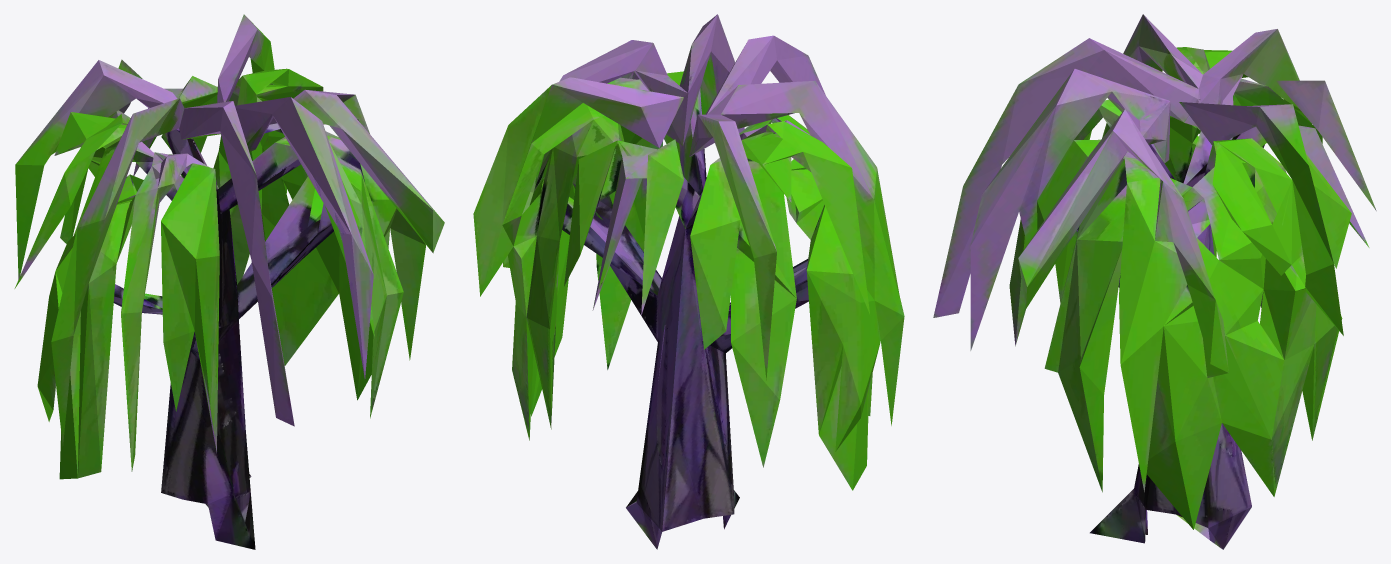
The model's file is willow_tree.glb.
The picture shows the model from 3 angles, left to right: view 1: azimuth 30°, elevation 25°; view 2: azimuth 150°, elevation 25°; view 3: azimuth 270°, elevation 25°; orthographic projection. The views are drawn at different scales.
Size of the model in its own units: 1.67 by 1.99 by 1.64.
1 material, 1 textured.
